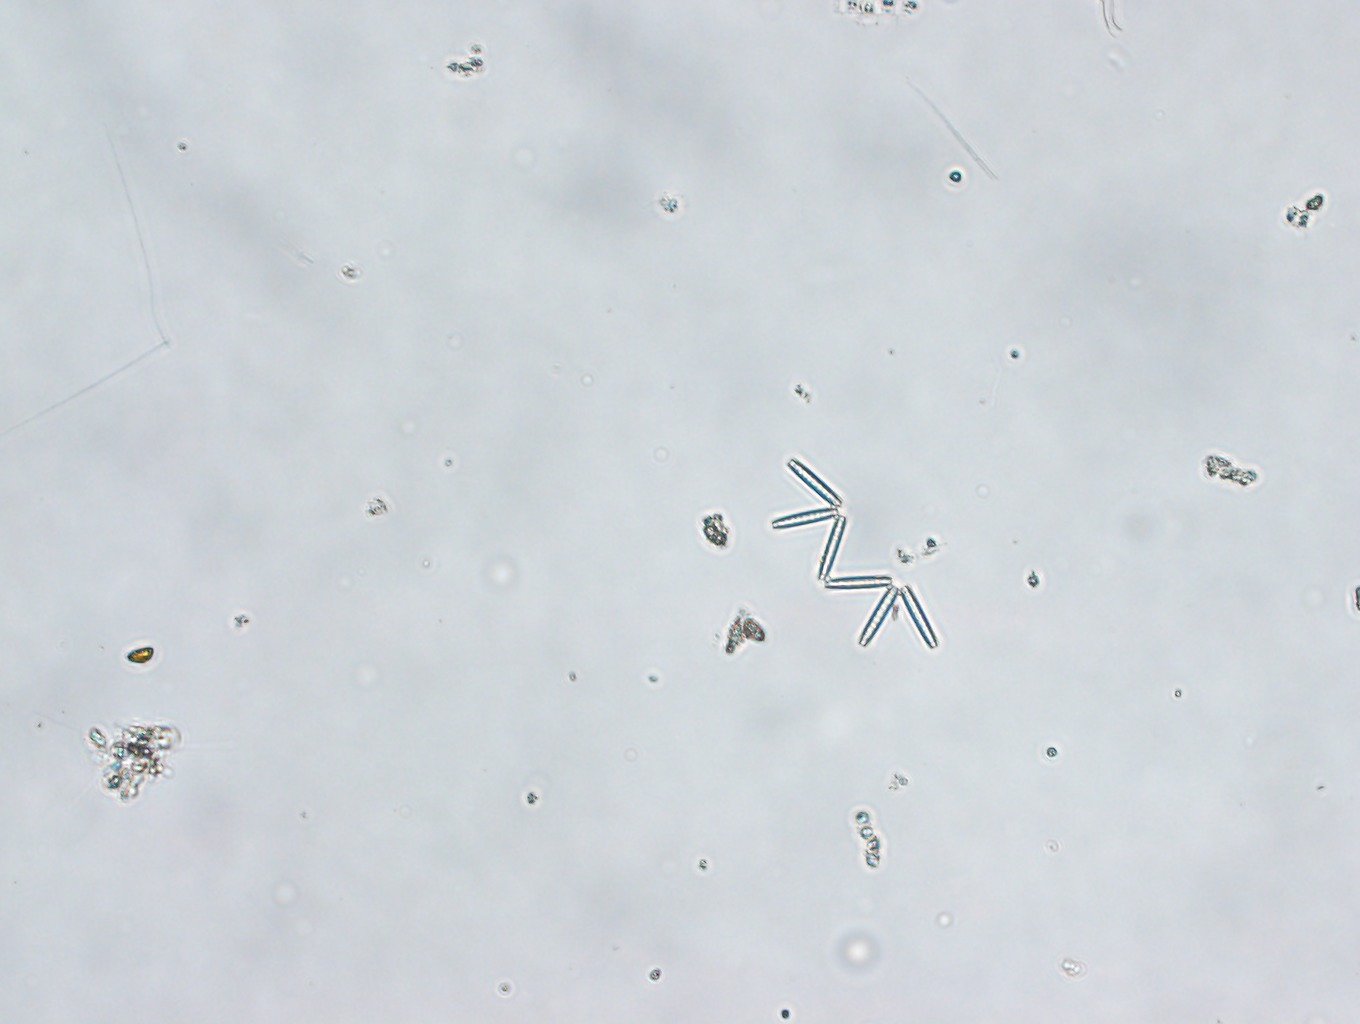thalassionema nitzschioides: (769, 453, 940, 652)
